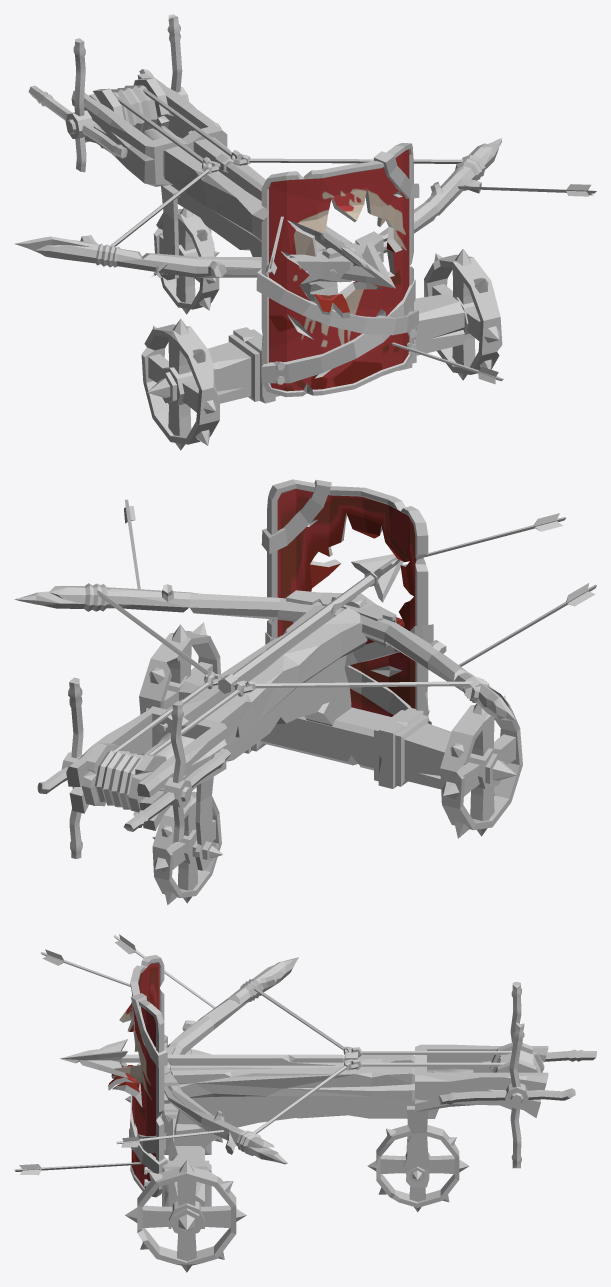
Rendered from SM_Veh_Ballista_01.fbx.
The picture shows the model from 3 angles, top to bottom: view 1: azimuth 30°, elevation 25°; view 2: azimuth 150°, elevation 25°; view 3: azimuth 270°, elevation 25°; orthographic projection. The views are drawn at different scales.
Visible parts, largest first — view 1: SM_Veh_Ballista_01, SM_Veh_Ballista_01_Wheel_r, SM_Veh_Ballista_01_Wheel_l; view 2: SM_Veh_Ballista_01, SM_Veh_Ballista_01_Wheel_r, SM_Veh_Ballista_01_Wheel_l; view 3: SM_Veh_Ballista_01, SM_Veh_Ballista_01_Wheel_l.
Boxes of the visible parts, x1,y1,x2,y2 form: SM_Veh_Ballista_01: [14, 14, 596, 403]; SM_Veh_Ballista_01_Wheel_r: [141, 318, 219, 450]; SM_Veh_Ballista_01_Wheel_l: [424, 249, 502, 380]; SM_Veh_Ballista_01: [14, 479, 596, 905]; SM_Veh_Ballista_01_Wheel_r: [440, 695, 522, 838]; SM_Veh_Ballista_01_Wheel_l: [139, 622, 220, 714]; SM_Veh_Ballista_01: [14, 934, 596, 1228]; SM_Veh_Ballista_01_Wheel_l: [125, 1160, 246, 1272].
Bounding box in the file's own units: 310 × 168 × 380.
